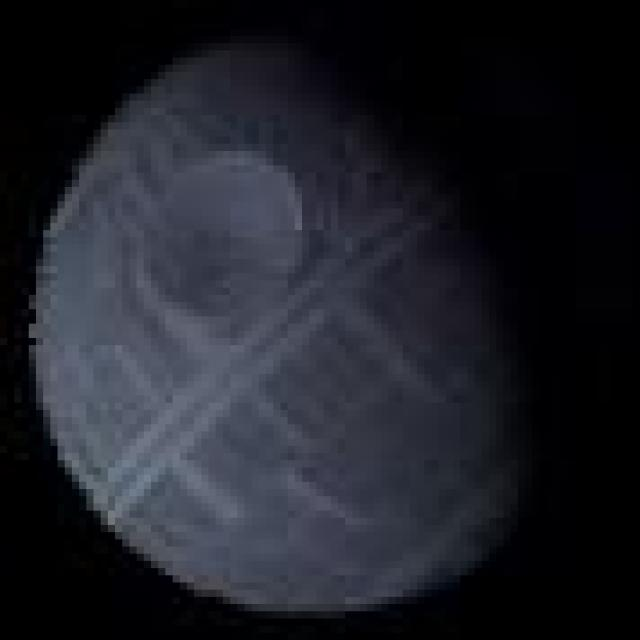Death Star: (15, 29, 532, 618)
